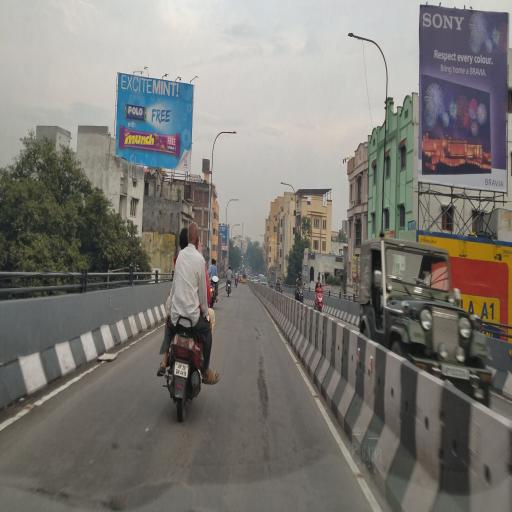street_light_0: (348, 24, 376, 46), (218, 121, 241, 147), (229, 186, 244, 214), (278, 173, 294, 196), (232, 219, 243, 233)
